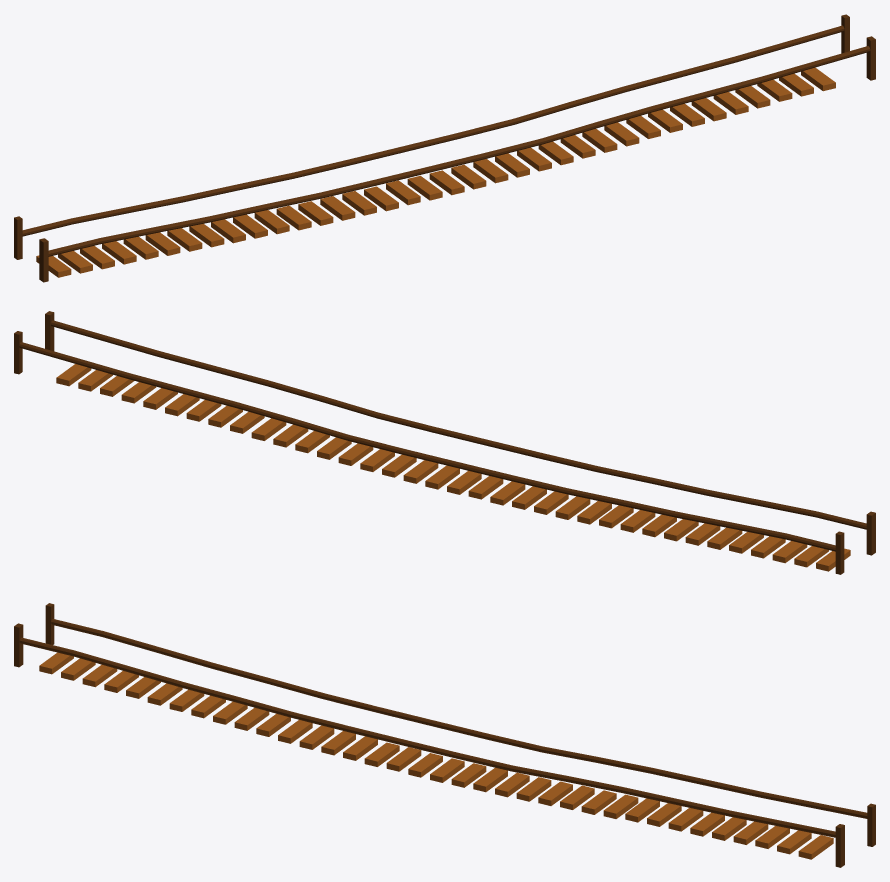
File: Bridge.fbx
3 views of the same model, one above another, from view 1: azimuth 30°, elevation 25°; view 2: azimuth 150°, elevation 25°; view 3: azimuth 330°, elevation 25° (orthographic).
Visible parts, largest first — view 1: Bridge; view 2: Bridge; view 3: Bridge.
Boxes of the visible parts, <box> form: Bridge: <box>14,14,875,282</box>; Bridge: <box>14,311,875,574</box>; Bridge: <box>14,603,875,867</box>.
Size of the model in its own units: 4365 by 290 by 294.
